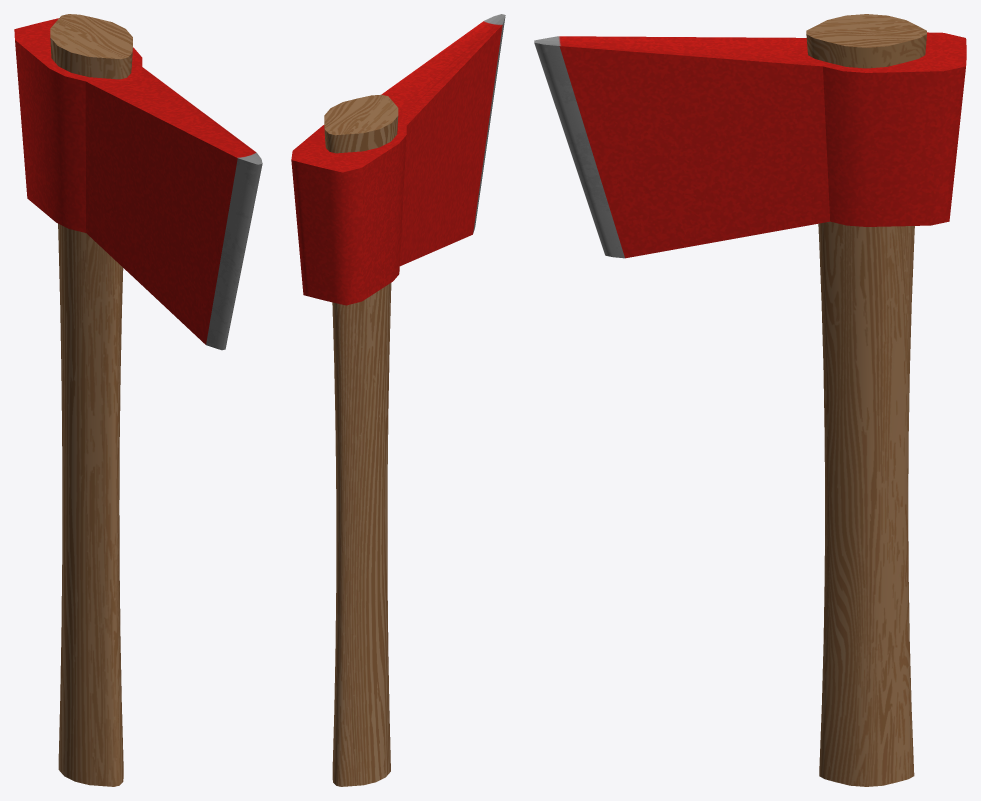
Rendered from Axe.fbx.
3 renders of one model, left to right at view 1: azimuth 30°, elevation 25°; view 2: azimuth 150°, elevation 25°; view 3: azimuth 270°, elevation 25°, orthographic. The views are drawn at different scales.
Parts seen in each view (by area): view 1: axe; view 2: axe; view 3: axe.
Boxes of the visible parts, bbox=[...] form: axe: bbox=[14, 14, 262, 786]; axe: bbox=[291, 14, 505, 786]; axe: bbox=[534, 14, 966, 786].
Bounding box in the file's own units: 8.1 × 66.93 × 35.31.
